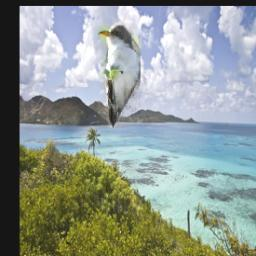Cuckoo: (98, 23, 141, 128)
